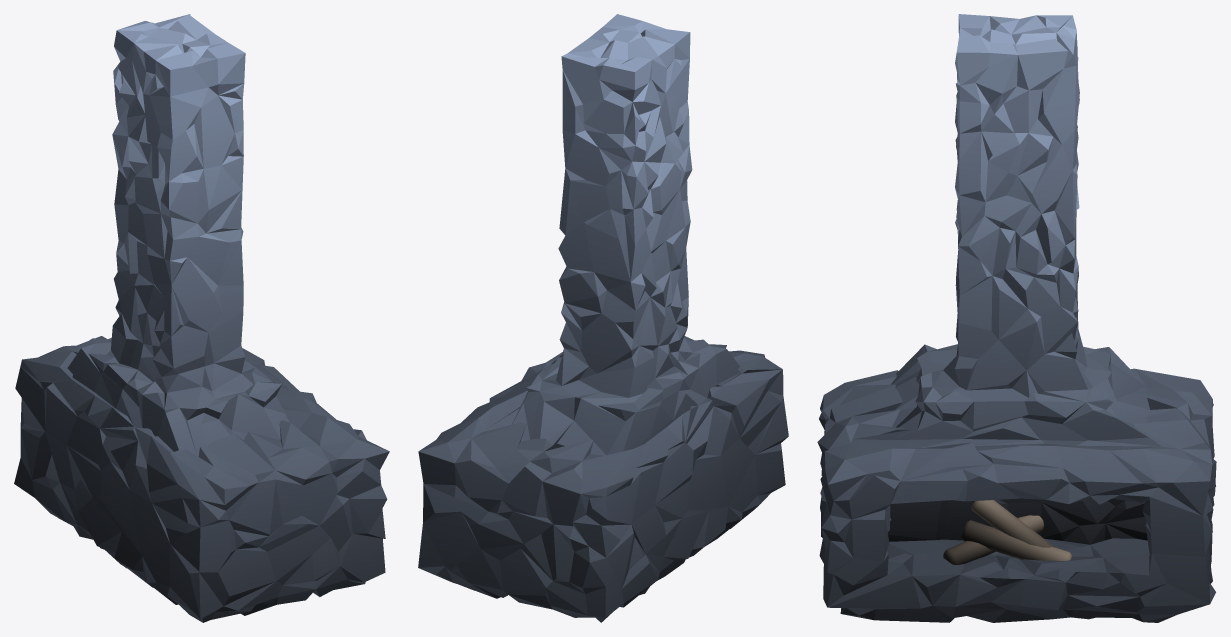
The model's file is AFirepit.glb.
The picture shows the model from 3 angles, left to right: view 1: azimuth 30°, elevation 25°; view 2: azimuth 150°, elevation 25°; view 3: azimuth 270°, elevation 25°; orthographic projection. The views are drawn at different scales.
Parts seen in each view (by area): view 1: Pit; view 2: Pit; view 3: Pit, Wood.
Part boxes in pixels (x1=…): Pit: x1=14, y1=14, x2=389, y2=622; Pit: x1=418, y1=14, x2=788, y2=622; Pit: x1=817, y1=14, x2=1216, y2=622; Wood: x1=943, y1=500, x2=1072, y2=564.
Bounding box in the file's own units: 2.25 × 5.78 × 3.8.
Materials: 1 (1 with a texture image).
